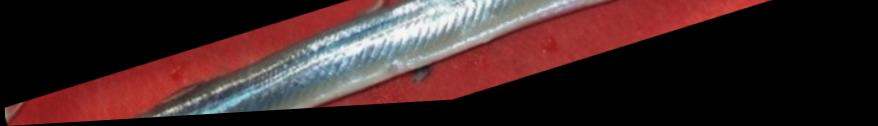fish: (131, 0, 638, 120)
